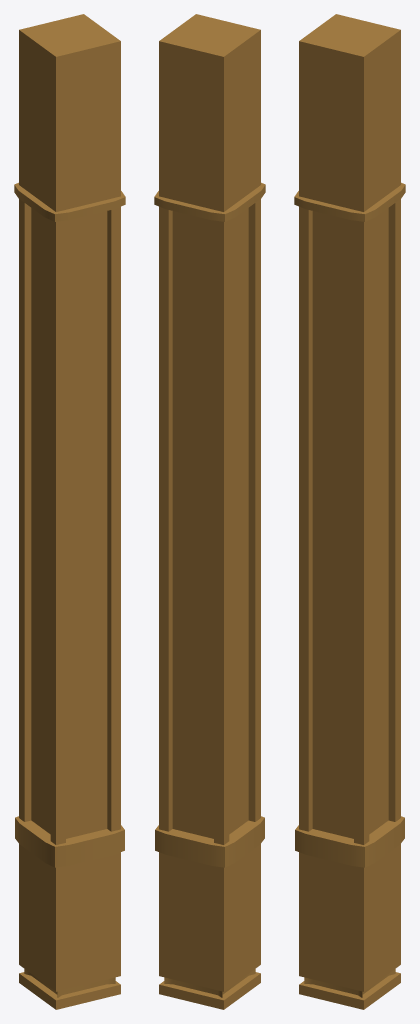
File: u2_pillar_asset.fbx
The picture shows the model from 3 angles, left to right: view 1: azimuth 30°, elevation 25°; view 2: azimuth 150°, elevation 25°; view 3: azimuth 330°, elevation 25°; orthographic projection.
Parts seen in each view (by area): view 1: pasted__pCube29; view 2: pasted__pCube29; view 3: pasted__pCube29.
Boxes of the visible parts, x1,y1,x2,y2 form: pasted__pCube29: (14, 14, 125, 1009); pasted__pCube29: (154, 14, 265, 1009); pasted__pCube29: (294, 14, 405, 1009).
Size of the model in its own units: 0.3978 by 4.71 by 0.3949.
